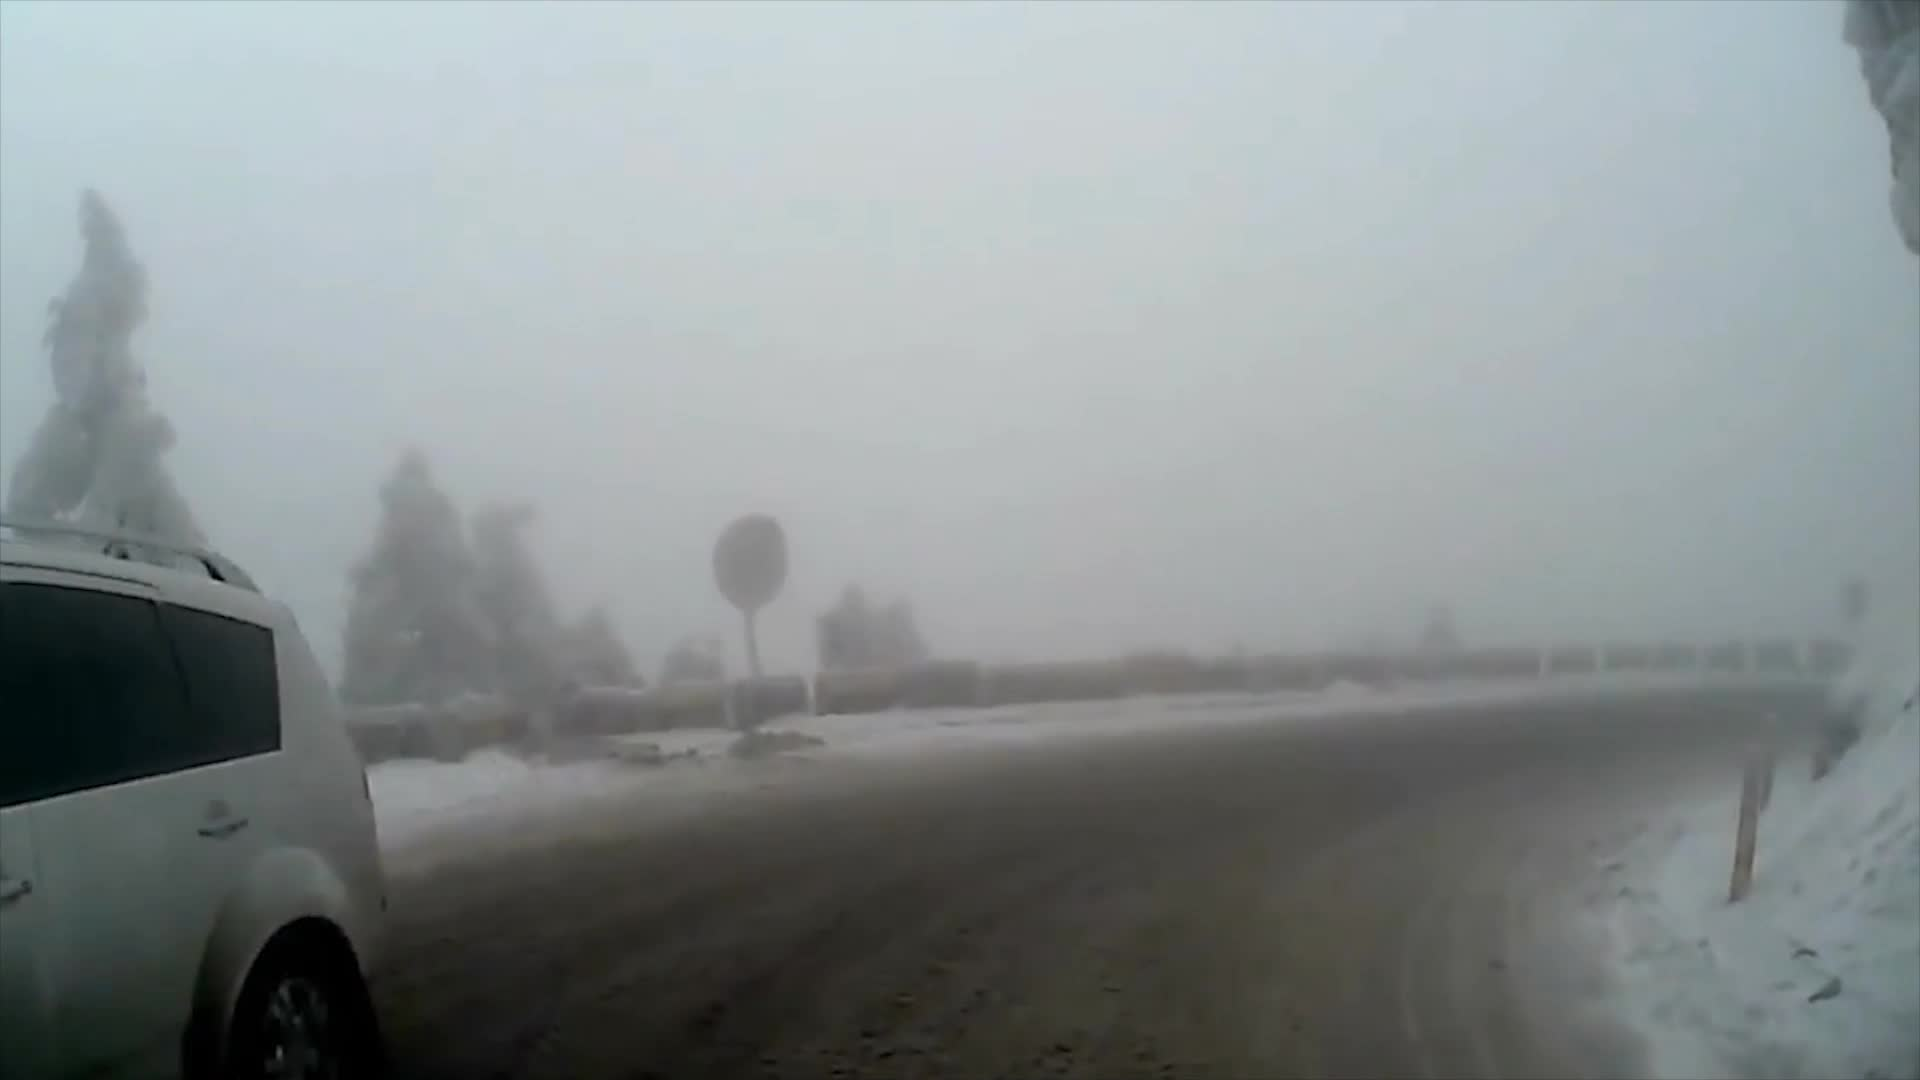vehicle: (0, 516, 390, 1080)
